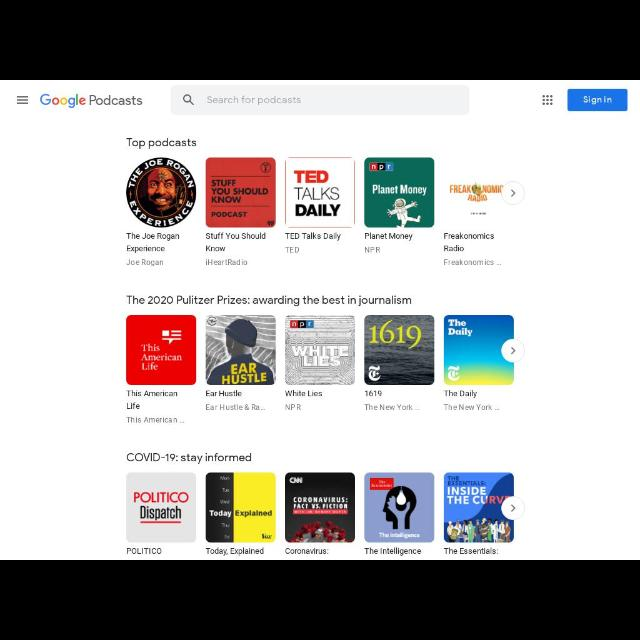button: (504, 339, 524, 363), (504, 182, 524, 204), (504, 498, 522, 518)
icon: (540, 94, 554, 108), (15, 94, 29, 106), (182, 93, 194, 107), (510, 346, 516, 356), (509, 190, 516, 198), (510, 504, 516, 512)
image: (206, 156, 276, 228), (125, 158, 195, 228), (127, 315, 197, 385), (444, 315, 514, 385), (286, 473, 356, 543), (126, 473, 197, 542), (364, 473, 434, 542), (286, 158, 354, 228), (364, 158, 434, 226), (206, 316, 276, 384), (286, 316, 354, 386), (366, 316, 434, 386), (206, 473, 274, 543), (444, 474, 514, 542), (448, 181, 508, 217), (40, 93, 142, 111)
input: (172, 86, 468, 114)
text: (126, 296, 414, 306), (126, 454, 252, 466), (206, 232, 266, 252), (128, 388, 178, 412), (126, 232, 178, 252), (206, 96, 300, 106), (444, 234, 494, 252), (127, 138, 197, 148), (126, 416, 184, 426), (207, 546, 265, 556), (364, 547, 422, 557), (444, 546, 498, 556), (444, 403, 502, 412), (365, 403, 419, 412), (444, 259, 502, 267), (284, 546, 330, 556), (286, 232, 340, 240), (127, 259, 165, 269), (204, 389, 242, 399), (205, 405, 267, 411), (443, 390, 479, 400), (364, 233, 414, 240), (583, 95, 613, 106), (126, 546, 162, 554), (205, 260, 247, 266), (284, 391, 322, 397), (284, 246, 302, 254), (285, 403, 301, 412), (364, 246, 380, 254), (366, 389, 382, 396)
textbutton: (566, 90, 628, 112)
